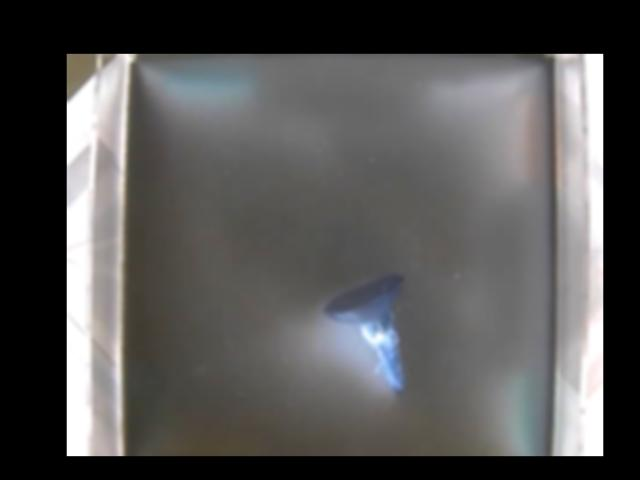Mooli: (325, 274, 409, 391)
